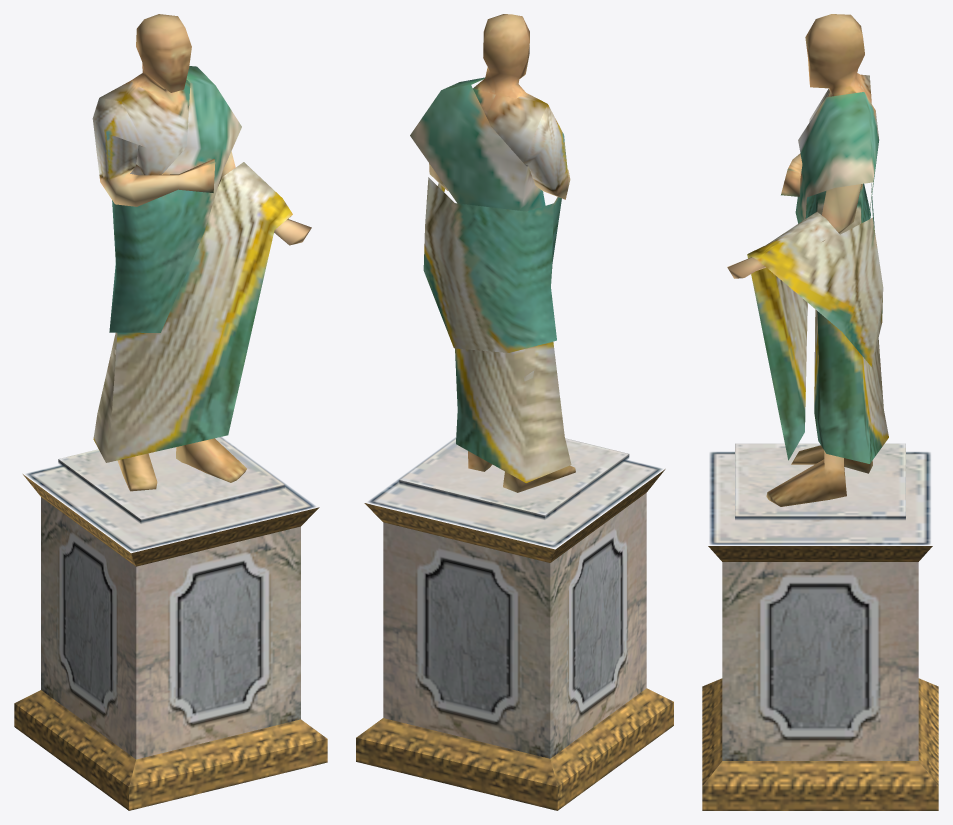
Rendered from rome_statue_4.glb.
3 renders of one model, left to right at view 1: azimuth 30°, elevation 25°; view 2: azimuth 150°, elevation 25°; view 3: azimuth 270°, elevation 25°, orthographic. The views are drawn at different scales.
Visible parts, largest first — view 1: rome_statue_4; view 2: rome_statue_4; view 3: rome_statue_4.
Boxes of the visible parts, x1,y1,x2,y2 form: rome_statue_4: [14, 14, 327, 810]; rome_statue_4: [356, 14, 673, 810]; rome_statue_4: [702, 14, 938, 810].
Size of the model in its own units: 2.76 by 9.39 by 2.7.
1 material, 1 textured.
